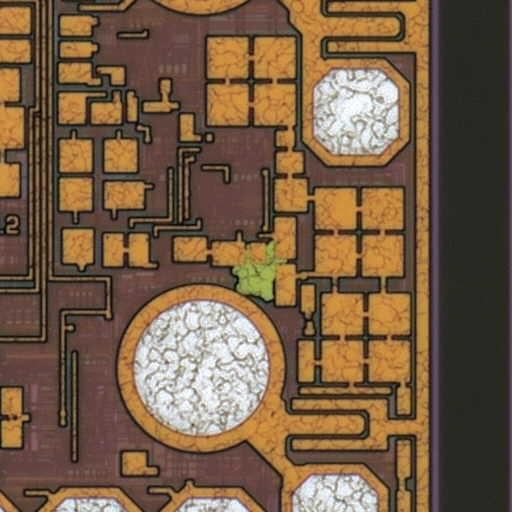BLOCK ETCH: (225, 232, 297, 304)
